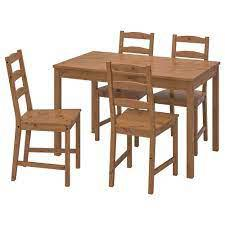chair: (2, 31, 83, 190)
